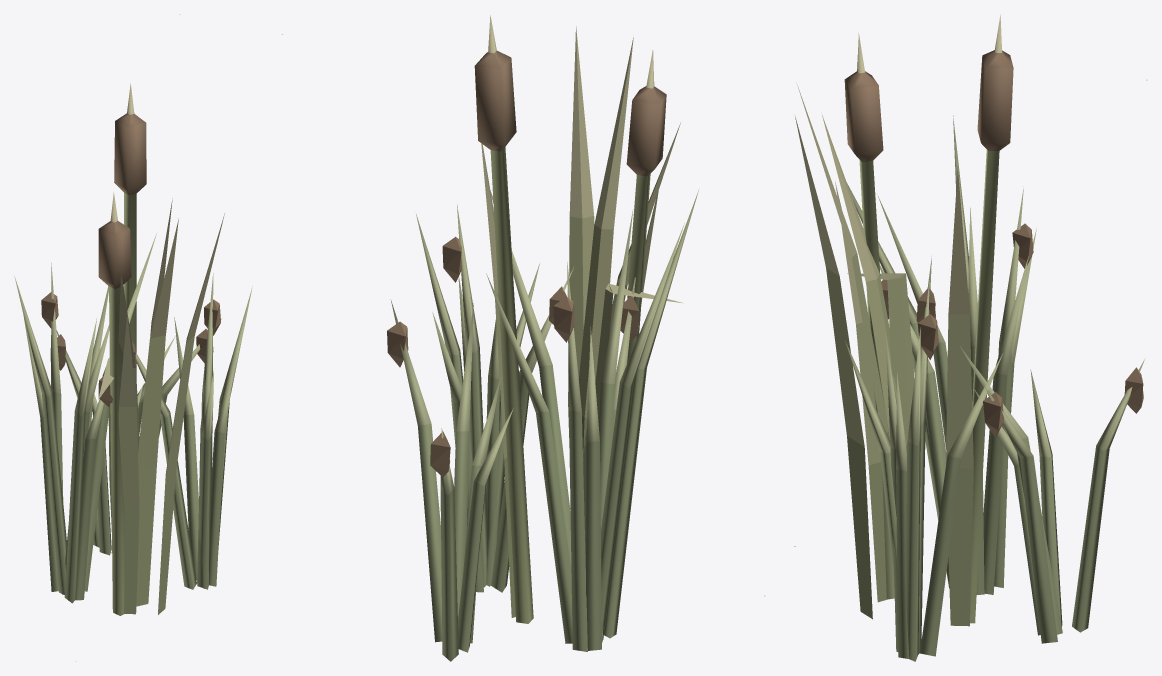
The model's file is ReedClump2_lite_leaf.glb.
3 views of the same model, side by side, from view 1: azimuth 30°, elevation 25°; view 2: azimuth 150°, elevation 25°; view 3: azimuth 270°, elevation 25° (orthographic). The views are drawn at different scales.
Parts seen in each view (by area): view 1: ReedClump2_lite_leaf; view 2: ReedClump2_lite_leaf; view 3: ReedClump2_lite_leaf.
Part boxes in pixels (x1,y1,x2,y2): ReedClump2_lite_leaf: (14, 14, 252, 661); ReedClump2_lite_leaf: (282, 15, 764, 661); ReedClump2_lite_leaf: (794, 14, 1147, 661).
Bounding box in the file's own units: 3.76 × 7.18 × 3.73.
